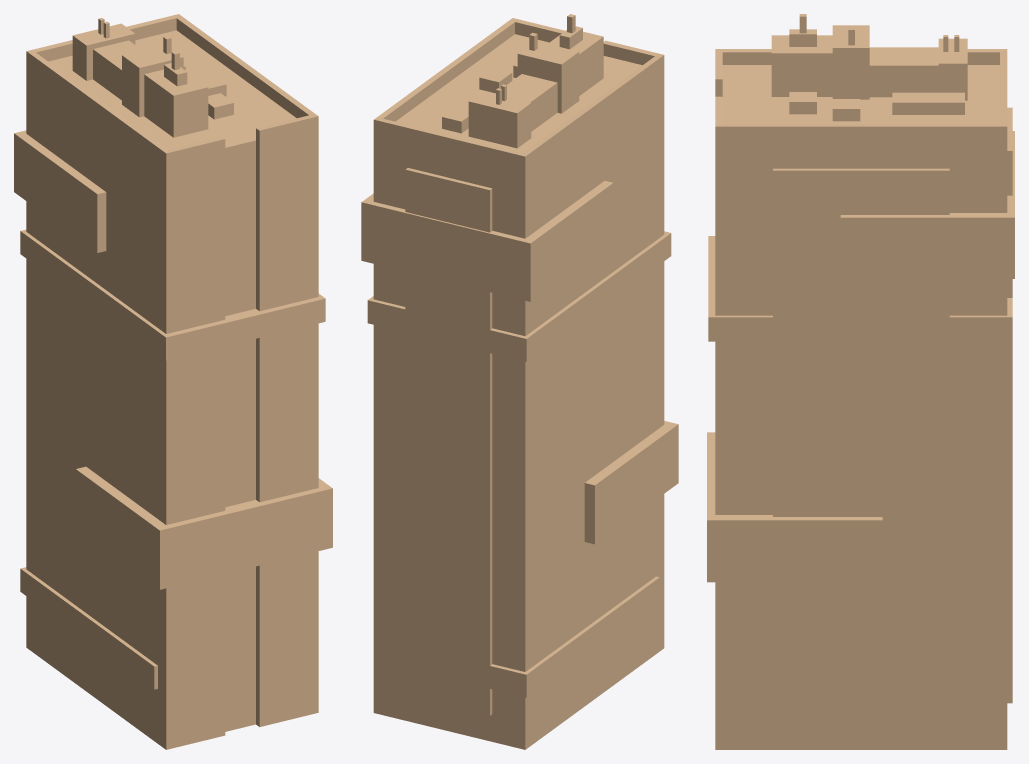
3 views of the same model, side by side, from view 1: azimuth 30°, elevation 25°; view 2: azimuth 150°, elevation 25°; view 3: azimuth 270°, elevation 25° (orthographic). The views are drawn at different scales.
Visible parts, largest first — view 1: B1_pCube5; view 2: B1_pCube5; view 3: B1_pCube5.
Part boxes in pixels (bbox=[...]): B1_pCube5: bbox=[14, 14, 332, 749]; B1_pCube5: bbox=[361, 14, 678, 749]; B1_pCube5: bbox=[707, 14, 1014, 749].
Bounding box in the file's own units: 19.66 × 71.01 × 28.99.
